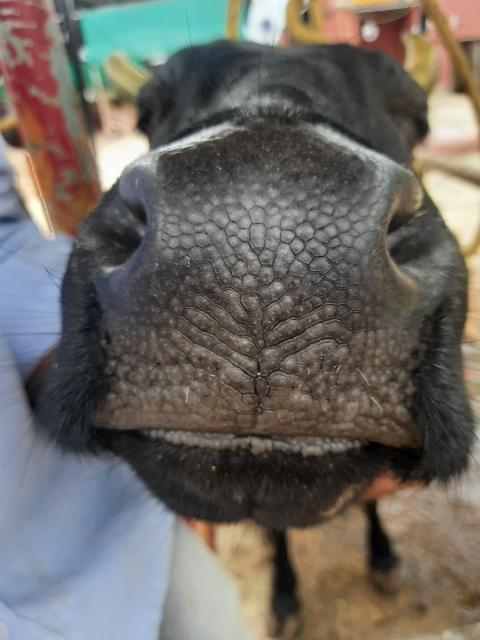Muzzle: (130, 165, 400, 433)
